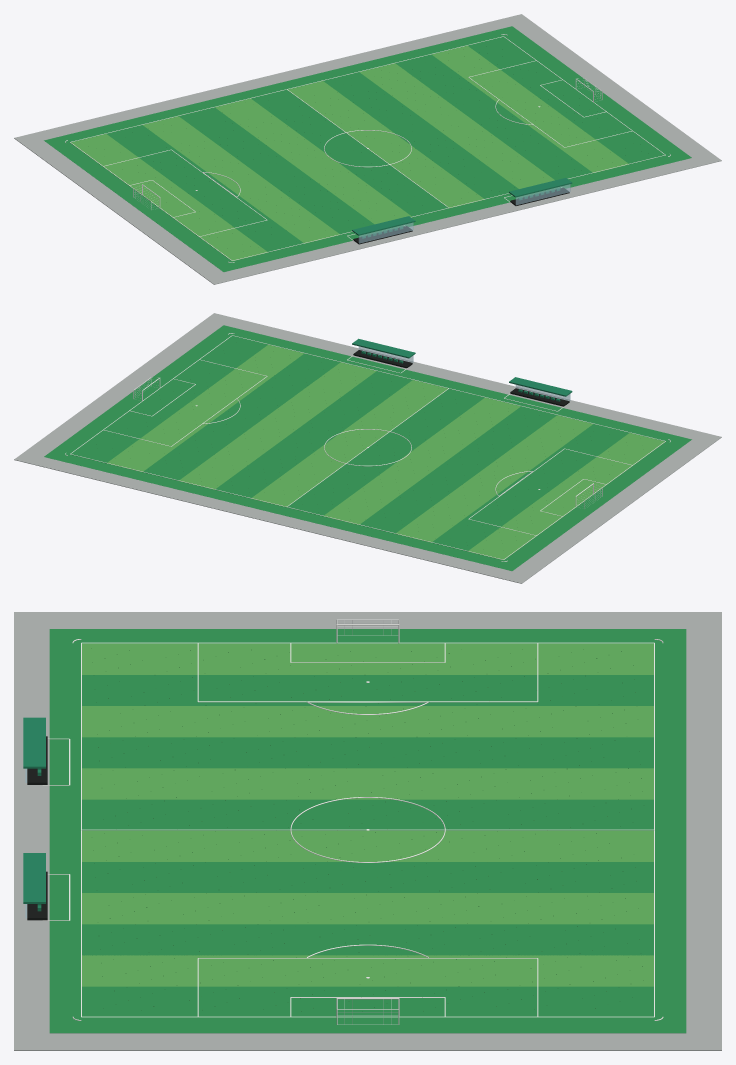
Rendered from stadium3d_phase1_pitch.glb.
The picture shows the model from 3 angles, top to bottom: view 1: azimuth 30°, elevation 25°; view 2: azimuth 150°, elevation 25°; view 3: azimuth 270°, elevation 25°; orthographic projection. The views are drawn at different scales.
Parts seen in each view (by area): view 1: phase1_pitch_runoff_slab, phase1_outer_touchline_grass_blend, phase1_mown_grass_band_11, phase1_mown_grass_band_10, phase1_mown_grass_band_00, phase1_mown_grass_band_02, phase1_mown_grass_band_05, phase1_mown_grass_band_01, phase1_mown_grass_band_07, phase1_mown_grass_band_09, phase1_mown_grass_band_03, phase1_mown_grass_band_04 (+7 smaller); view 2: phase1_pitch_runoff_slab, phase1_outer_touchline_grass_blend, phase1_mown_grass_band_11, phase1_mown_grass_band_10, phase1_mown_grass_band_00, phase1_mown_grass_band_07, phase1_mown_grass_band_02, phase1_mown_grass_band_03, phase1_mown_grass_band_04, phase1_mown_grass_band_08, phase1_mown_grass_band_05, phase1_mown_grass_band_09 (+6 smaller); view 3: phase1_pitch_runoff_slab, phase1_outer_touchline_grass_blend, phase1_mown_grass_band_08, phase1_mown_grass_band_03, phase1_mown_grass_band_00, phase1_mown_grass_band_10, phase1_mown_grass_band_04, phase1_mown_grass_band_09, phase1_mown_grass_band_02, phase1_mown_grass_band_06, phase1_mown_grass_band_05, phase1_mown_grass_band_11 (+8 smaller).
Boxes of the visible parts, x1=… form: phase1_pitch_runoff_slab: x1=14, y1=14, x2=721, y2=284; phase1_outer_touchline_grass_blend: x1=44, y1=26, x2=691, y2=271; phase1_mown_grass_band_11: x1=468, y1=37, x2=664, y2=164; phase1_mown_grass_band_10: x1=432, y1=45, x2=629, y2=172; phase1_mown_grass_band_00: x1=71, y1=134, x2=267, y2=261; phase1_mown_grass_band_02: x1=143, y1=116, x2=340, y2=243; phase1_mown_grass_band_05: x1=251, y1=90, x2=448, y2=217; phase1_mown_grass_band_01: x1=106, y1=125, x2=303, y2=252; phase1_mown_grass_band_07: x1=323, y1=72, x2=518, y2=199; phase1_mown_grass_band_09: x1=396, y1=54, x2=593, y2=180; phase1_mown_grass_band_03: x1=179, y1=107, x2=374, y2=234; phase1_mown_grass_band_04: x1=215, y1=98, x2=412, y2=224; phase1_pitch_runoff_slab: x1=14, y1=313, x2=721, y2=583; phase1_outer_touchline_grass_blend: x1=44, y1=325, x2=691, y2=570; phase1_mown_grass_band_11: x1=71, y1=336, x2=267, y2=463; phase1_mown_grass_band_10: x1=106, y1=344, x2=303, y2=472; phase1_mown_grass_band_00: x1=468, y1=433, x2=664, y2=560; phase1_mown_grass_band_07: x1=215, y1=371, x2=412, y2=498; phase1_mown_grass_band_02: x1=395, y1=415, x2=592, y2=542; phase1_mown_grass_band_03: x1=359, y1=406, x2=556, y2=533; phase1_mown_grass_band_04: x1=323, y1=397, x2=520, y2=524; phase1_mown_grass_band_08: x1=179, y1=362, x2=376, y2=489; phase1_mown_grass_band_05: x1=287, y1=389, x2=484, y2=516; phase1_mown_grass_band_09: x1=143, y1=353, x2=339, y2=480; phase1_pitch_runoff_slab: x1=14, y1=612, x2=721, y2=1050; phase1_outer_touchline_grass_blend: x1=49, y1=629, x2=686, y2=1033; phase1_mown_grass_band_08: x1=82, y1=893, x2=653, y2=924; phase1_mown_grass_band_03: x1=82, y1=737, x2=653, y2=768; phase1_mown_grass_band_00: x1=82, y1=643, x2=653, y2=674; phase1_mown_grass_band_10: x1=82, y1=955, x2=653, y2=986; phase1_mown_grass_band_04: x1=82, y1=768, x2=653, y2=799; phase1_mown_grass_band_09: x1=82, y1=924, x2=653, y2=955; phase1_mown_grass_band_02: x1=82, y1=706, x2=653, y2=737; phase1_mown_grass_band_06: x1=82, y1=830, x2=653, y2=861; phase1_mown_grass_band_05: x1=82, y1=799, x2=653, y2=830; phase1_mown_grass_band_11: x1=81, y1=986, x2=654, y2=1017.
Bounding box in the file's own units: 123 × 2.9 × 84.
